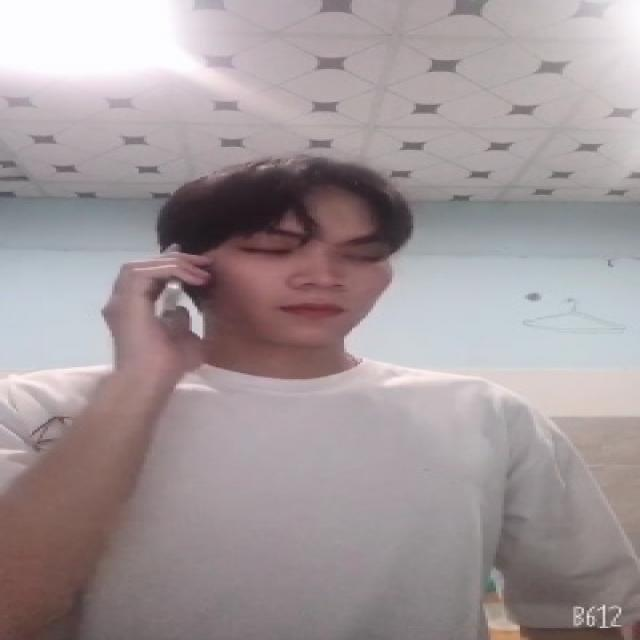Phone: (156, 239, 194, 321)
